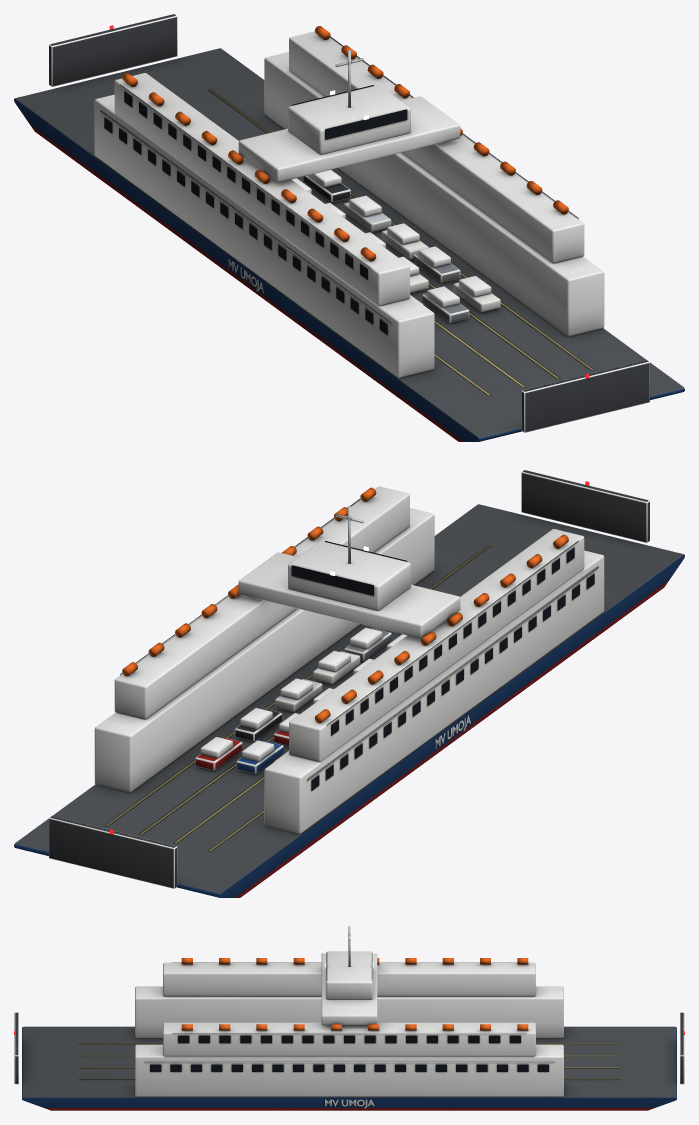
File: ferry.glb
The picture shows the model from 3 angles, top to bottom: view 1: azimuth 30°, elevation 25°; view 2: azimuth 150°, elevation 25°; view 3: azimuth 270°, elevation 25°; orthographic projection. The views are drawn at different scales.
Parts seen in each view (by area): view 1: body, glass; view 2: body, glass; view 3: body, glass.
Boxes of the visible parts, x1,y1,x2,y2 form: body: (14, 14, 684, 441); glass: (104, 85, 407, 334); body: (14, 470, 684, 897); glass: (291, 541, 594, 790); body: (14, 926, 684, 1110); glass: (150, 1035, 548, 1071).
Bounding box in the file's own units: 18.14 × 17.6 × 72.
20 materials, 17 textured.
